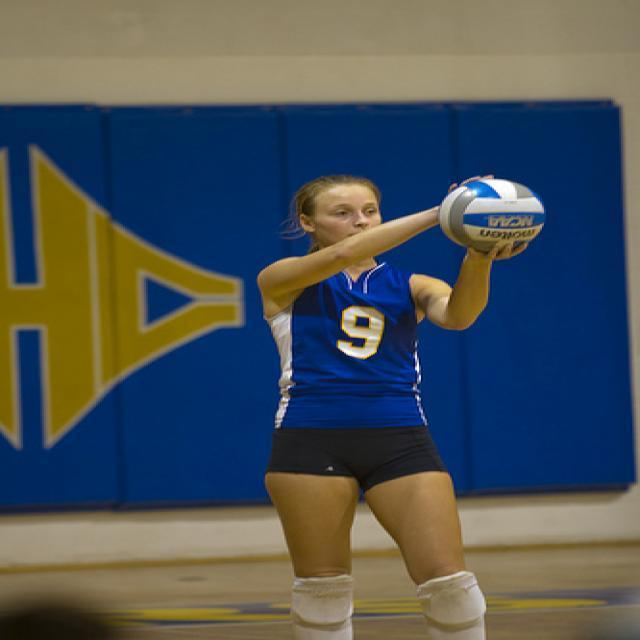volleyball: (440, 178, 546, 252)
